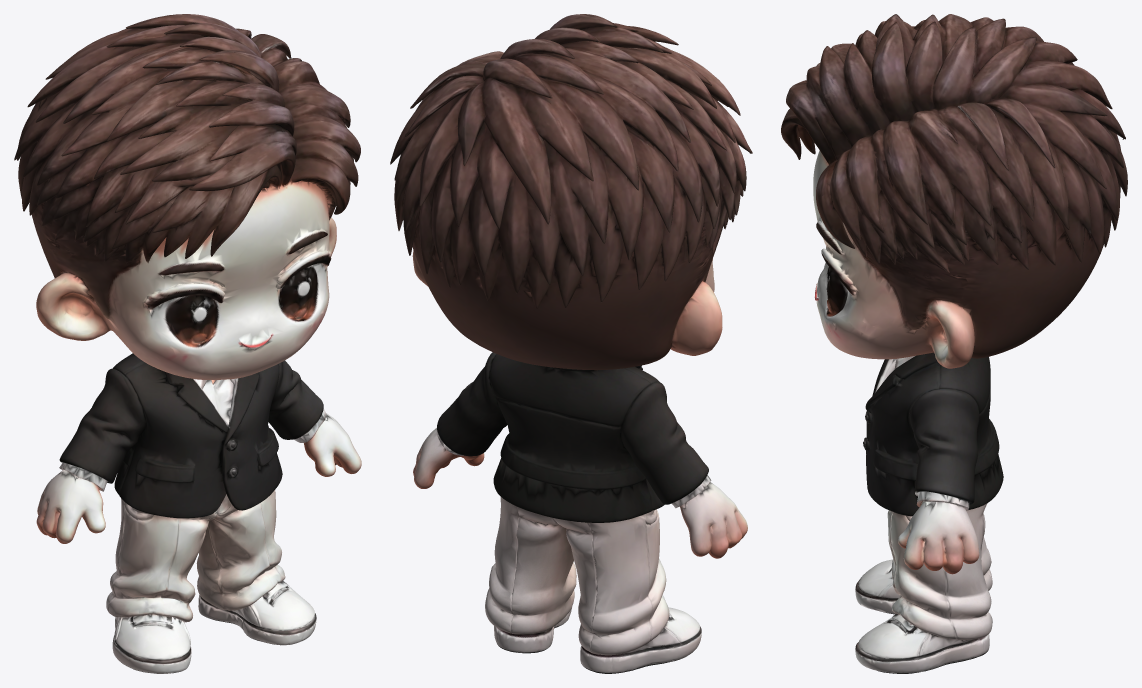
The model's file is jas_rt.glb.
The picture shows the model from 3 angles, left to right: view 1: azimuth 30°, elevation 25°; view 2: azimuth 150°, elevation 25°; view 3: azimuth 270°, elevation 25°; orthographic projection. The views are drawn at different scales.
Parts seen in each view (by area): view 1: tripo_node_3487e91a-53c1-4cb5-80be-489106967b08; view 2: tripo_node_3487e91a-53c1-4cb5-80be-489106967b08; view 3: tripo_node_3487e91a-53c1-4cb5-80be-489106967b08.
Part boxes in pixels (x1=…): tripo_node_3487e91a-53c1-4cb5-80be-489106967b08: x1=14, y1=14, x2=361, y2=673; tripo_node_3487e91a-53c1-4cb5-80be-489106967b08: x1=390, y1=14, x2=752, y2=673; tripo_node_3487e91a-53c1-4cb5-80be-489106967b08: x1=781, y1=14, x2=1127, y2=673.
Bounding box in the file's own units: 0.5318 × 0.9793 × 0.509.
1 material, 1 textured.
